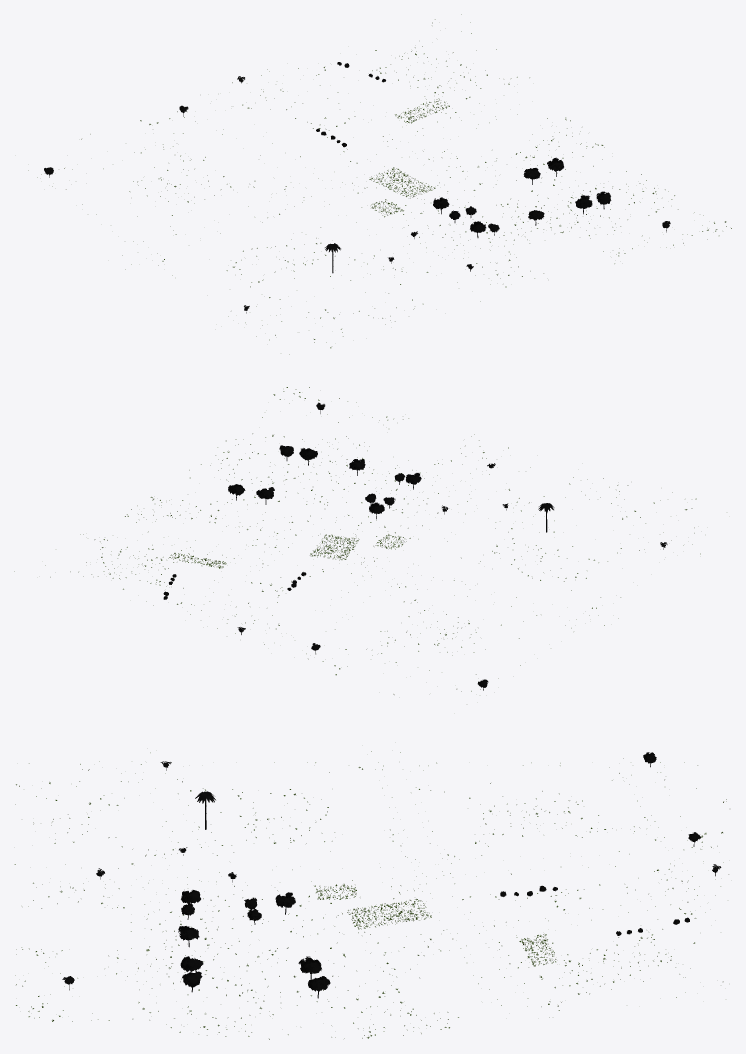
File: Vegetation.fbx
3 renders of one model, top to bottom at view 1: azimuth 30°, elevation 25°; view 2: azimuth 150°, elevation 25°; view 3: azimuth 270°, elevation 25°, orthographic. The views are drawn at different scales.
Parts seen in each view (by area): view 1: EXPORT_OT_Vegetation_SA_M01_02_S01_02; view 2: EXPORT_OT_Vegetation_SA_M01_02_S01_02; view 3: EXPORT_OT_Vegetation_SA_M01_02_S01_02.
Part boxes in pixels (<box>): EXPORT_OT_Vegetation_SA_M01_02_S01_02: <box>28,14,731,354</box>; EXPORT_OT_Vegetation_SA_M01_02_S01_02: <box>14,387,700,694</box>; EXPORT_OT_Vegetation_SA_M01_02_S01_02: <box>14,751,728,1039</box>.
Bounding box in the file's own units: 250 × 17.47 × 251.
